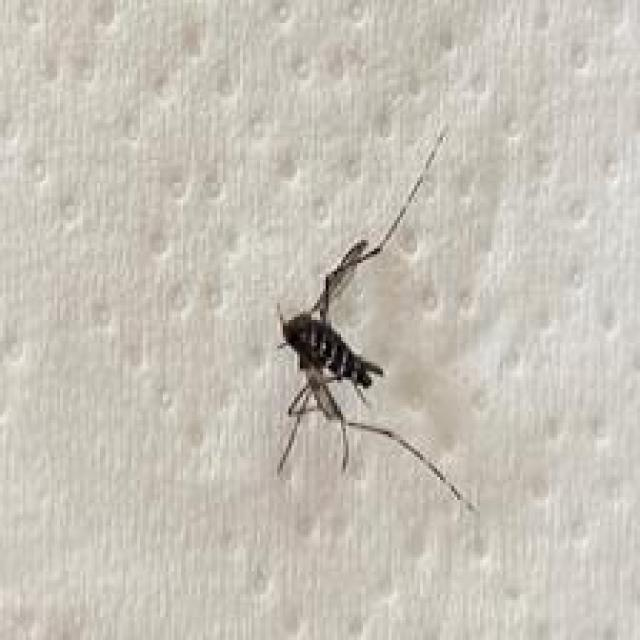Aedes albopictus: (270, 124, 479, 513)
